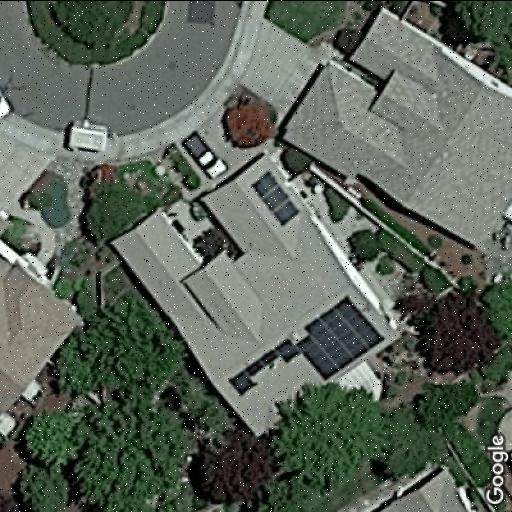solar-panel: (294, 294, 384, 381), (225, 328, 299, 396), (247, 166, 297, 228)
